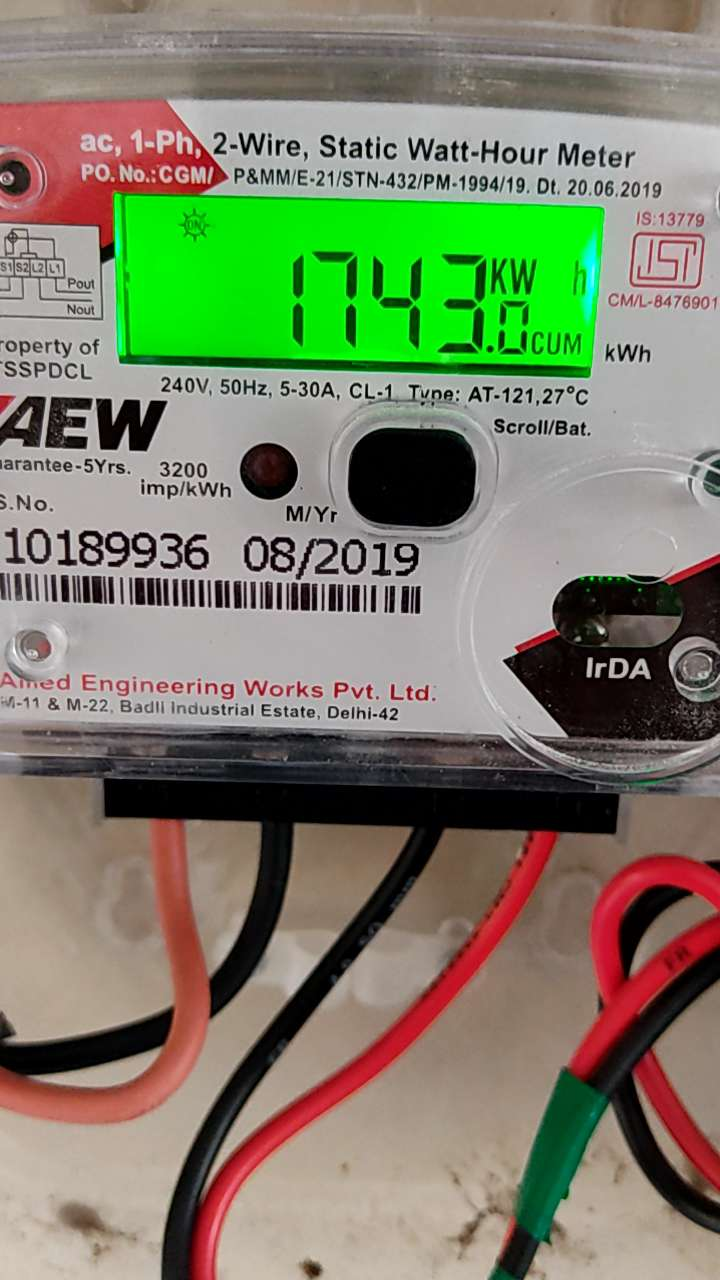meter_serial_number: (1, 521, 213, 576)
